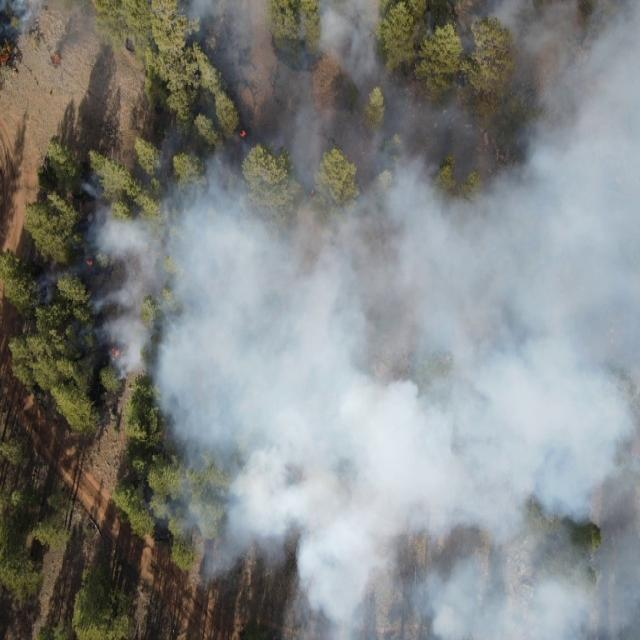fire: (238, 124, 252, 144), (50, 47, 65, 65), (112, 345, 124, 363), (0, 48, 12, 66), (84, 258, 96, 268)
smoke: (97, 161, 640, 454), (174, 95, 640, 219), (1, 0, 640, 90), (168, 457, 640, 572), (297, 576, 640, 640)
